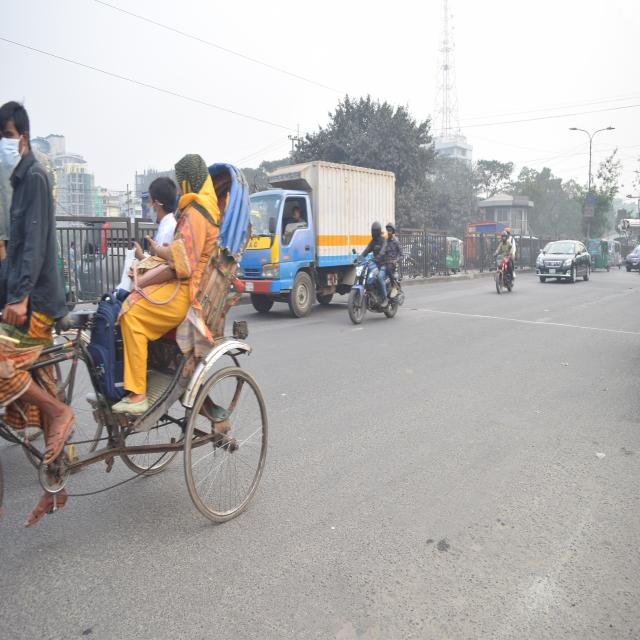car: (538, 230, 593, 292), (624, 240, 640, 276)
motorbike: (346, 242, 405, 331), (485, 235, 516, 298)
pickup-van: (243, 160, 348, 323)
